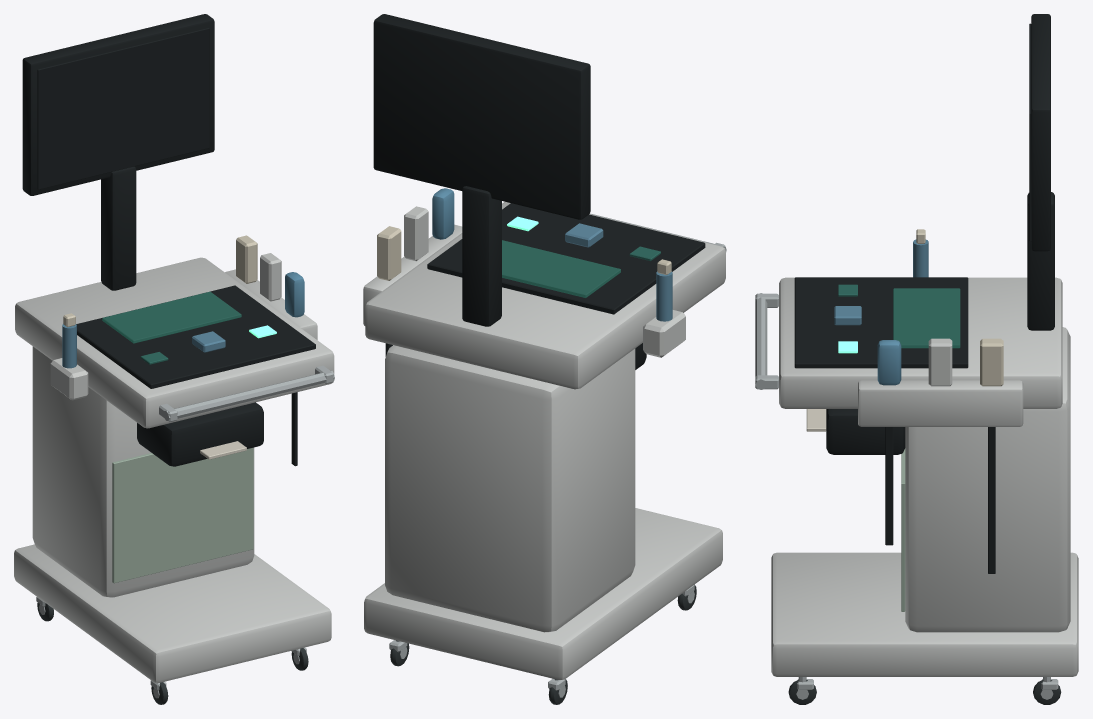
File: ultrasound-machine.glb
The picture shows the model from 3 angles, left to right: view 1: azimuth 30°, elevation 25°; view 2: azimuth 150°, elevation 25°; view 3: azimuth 270°, elevation 25°; orthographic projection. The views are drawn at different scales.
Visible parts, largest first — view 1: ultrasound-machine; view 2: ultrasound-machine; view 3: ultrasound-machine.
Part boxes in pixels (bbox=[...]): ultrasound-machine: bbox=[14, 14, 334, 704]; ultrasound-machine: bbox=[363, 14, 726, 704]; ultrasound-machine: bbox=[755, 14, 1078, 704].
Size of the model in its own units: 0.72 by 1.7 by 0.82.
